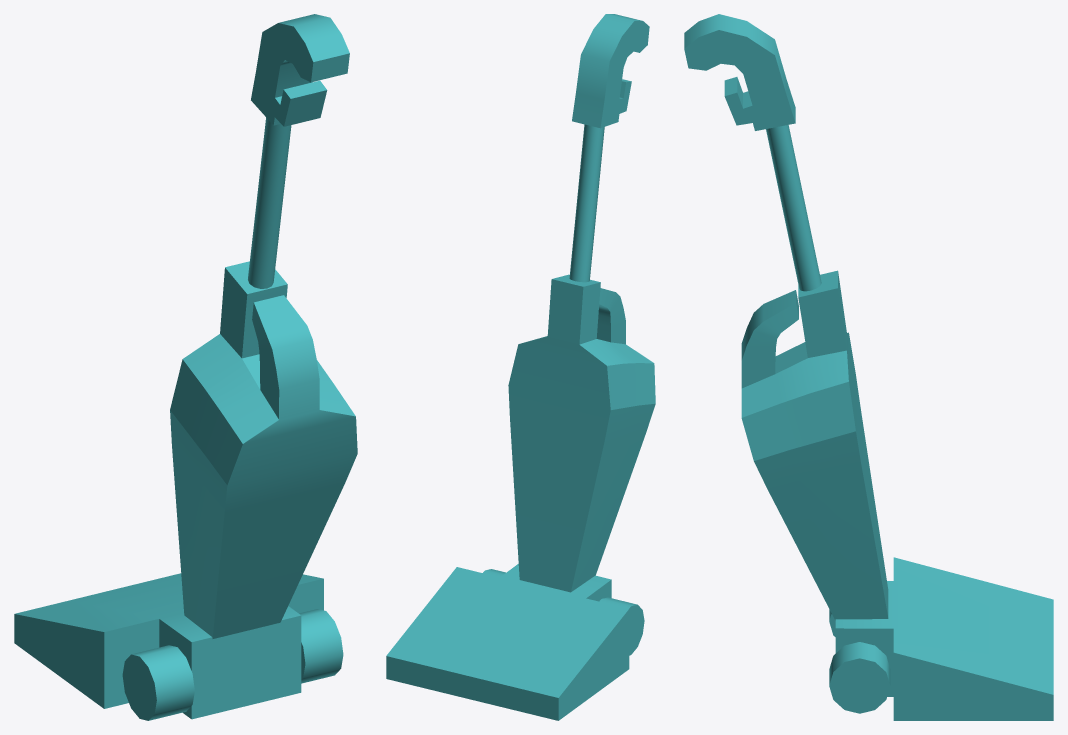
Rendered from VacuumCleaner.fbx.
3 renders of one model, left to right at view 1: azimuth 30°, elevation 25°; view 2: azimuth 150°, elevation 25°; view 3: azimuth 270°, elevation 25°, orthographic. The views are drawn at different scales.
Visible parts, largest first — view 1: vc_03, vc_01, vc_04, vc_02, vc_05; view 2: vc_03, vc_01, vc_04, vc_05, vc_02; view 3: vc_03, vc_01, vc_04, vc_05, vc_02.
Boxes of the visible parts, bbox=[...] form: vc_03: bbox=[170, 261, 357, 638]; vc_01: bbox=[14, 573, 323, 719]; vc_04: bbox=[251, 14, 349, 126]; vc_02: bbox=[122, 609, 343, 720]; vc_05: bbox=[248, 117, 291, 288]; vc_03: bbox=[508, 274, 655, 592]; vc_01: bbox=[386, 564, 629, 720]; vc_04: bbox=[572, 14, 649, 128]; vc_05: bbox=[569, 124, 604, 282]; vc_02: bbox=[483, 569, 644, 655]; vc_03: bbox=[741, 270, 888, 620]; vc_01: bbox=[835, 557, 1053, 720]; vc_04: bbox=[684, 14, 795, 130]; vc_05: bbox=[766, 125, 821, 291]; vc_02: bbox=[829, 609, 890, 713].
Size of the model in its own units: 0.8502 by 2.71 by 1.39.
